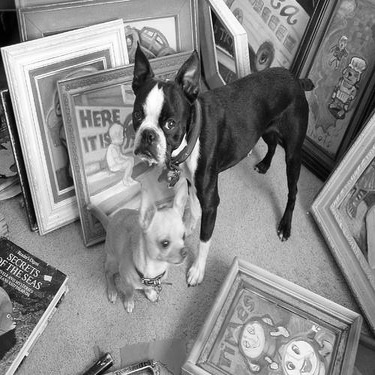dog: (121, 31, 318, 292), (78, 162, 191, 313)
